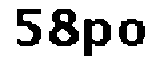5: (13, 6, 45, 50)
8: (48, 6, 79, 50)
o: (119, 15, 147, 54)
p: (82, 15, 113, 58)
